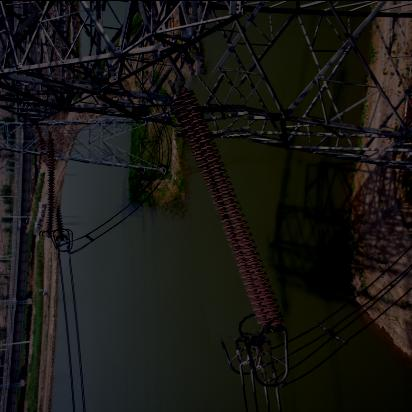insulator: (178, 70, 277, 341), (31, 131, 70, 237)
